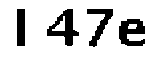4: (43, 7, 82, 51)
7: (84, 6, 115, 49)
e: (117, 15, 148, 48)
l: (12, 6, 36, 51)
